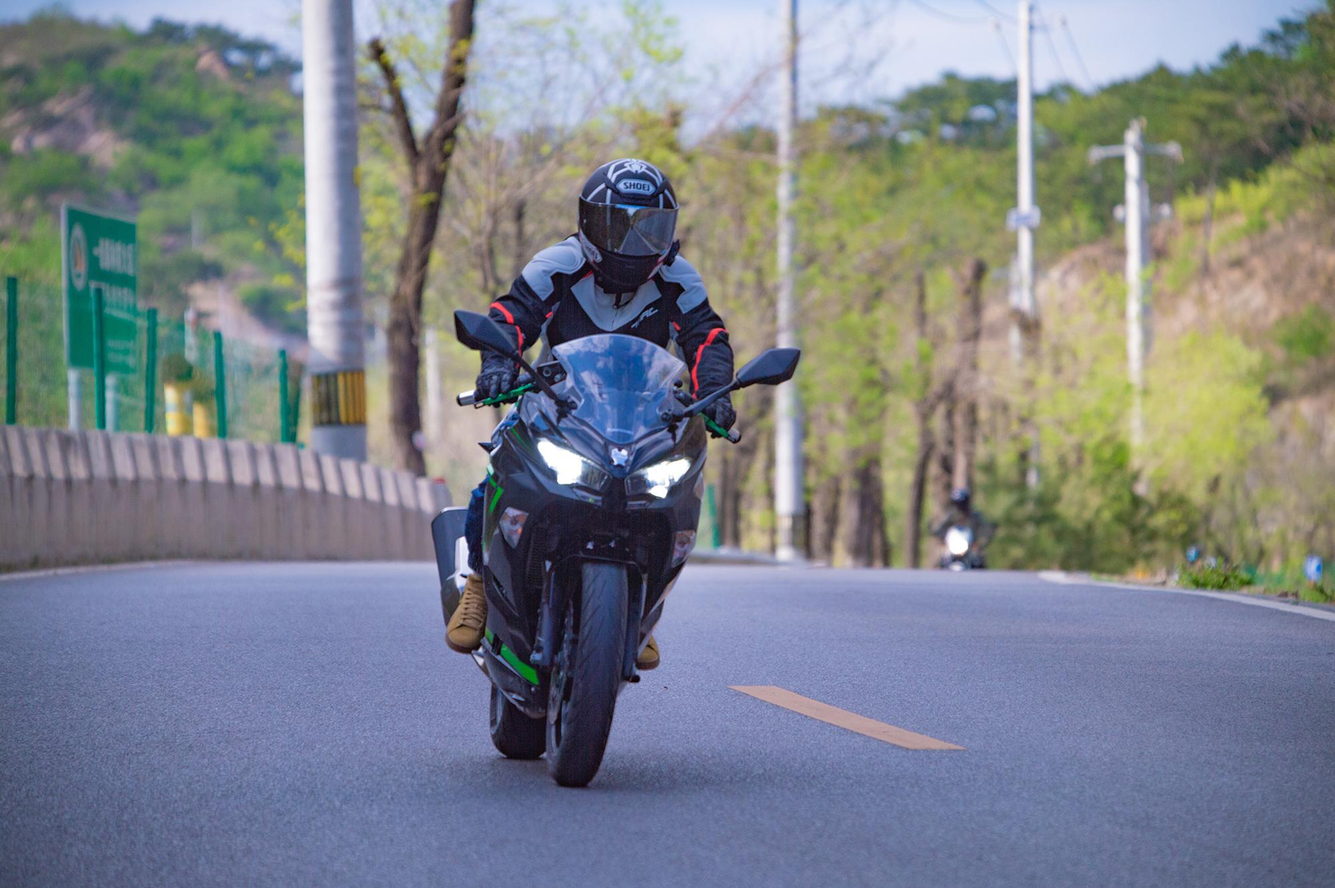helmet: (576, 157, 682, 291)
